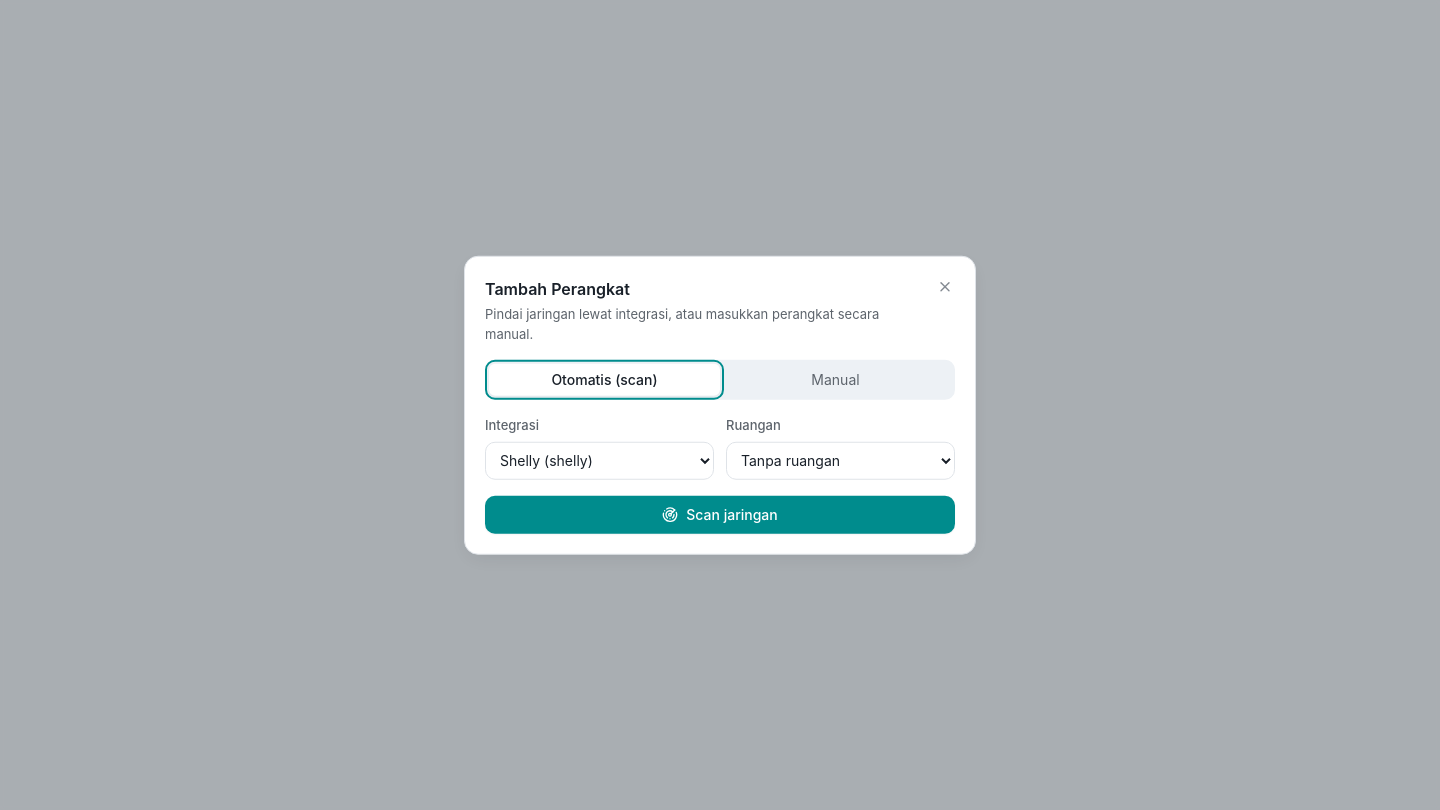
Test case: AddDeviceModal › scan › shows a message when nothing is discovered
Click the button "Scan jaringan". click: (720, 514)
box: [485,495,955,533]
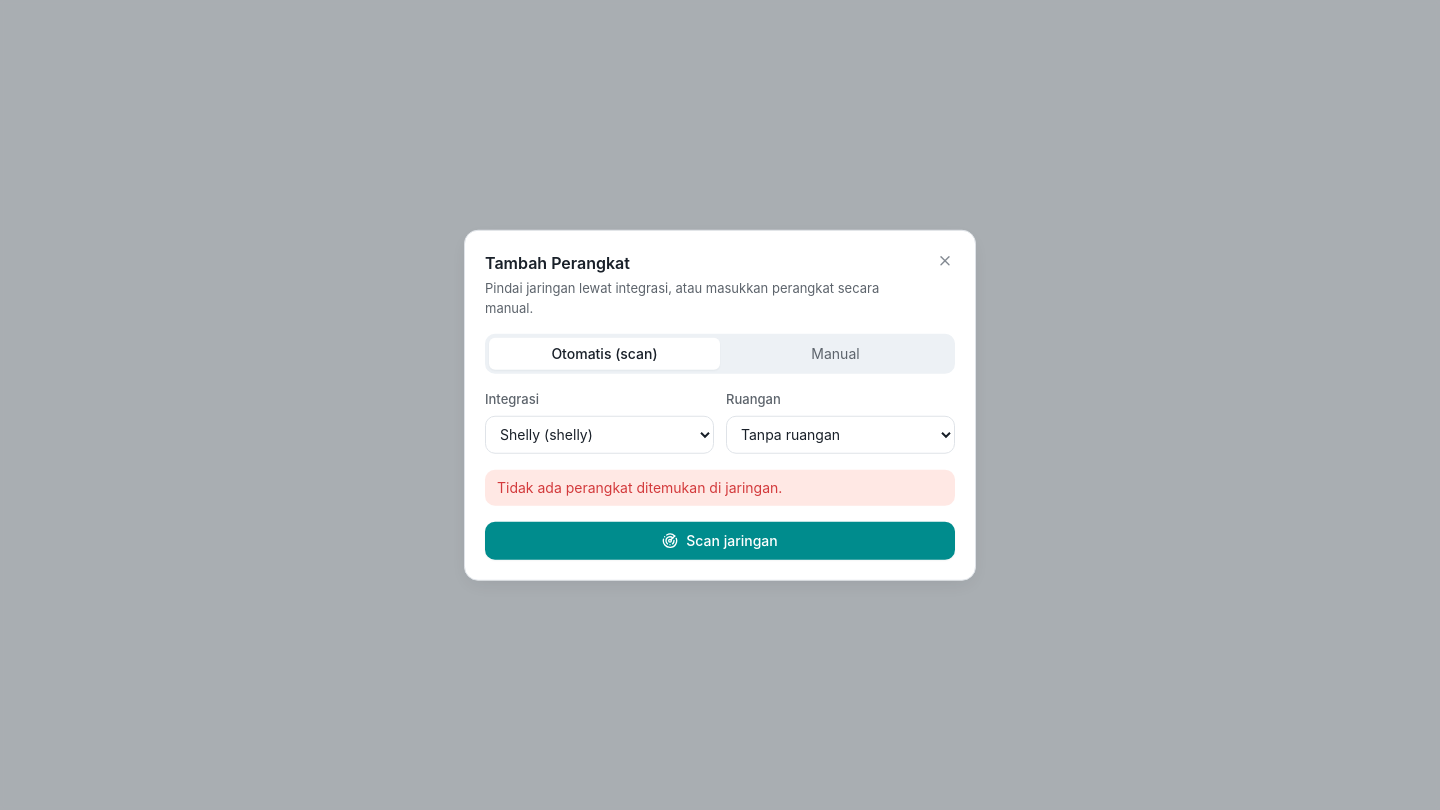
Result: the text "Tidak ada perangkat ditemukan di jaringan." is shown at [485,469,955,505]
